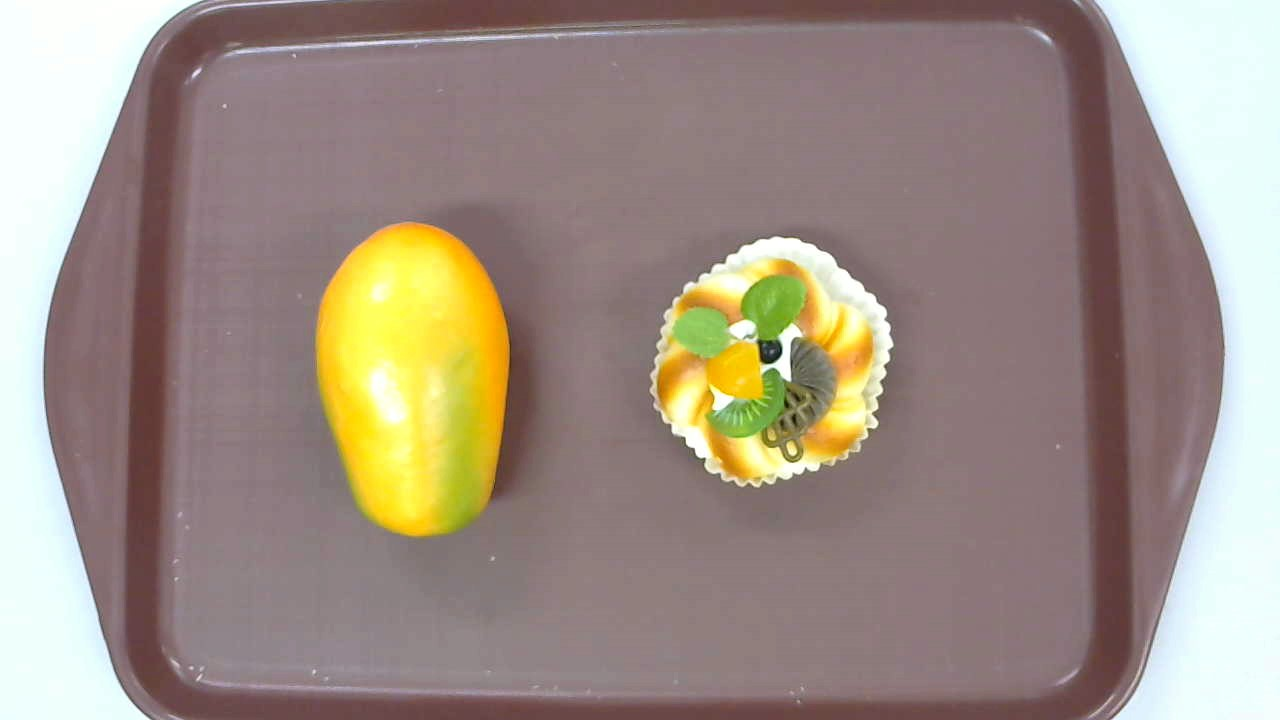fruit tart: (649, 235, 895, 489)
papya: (313, 222, 510, 536)
